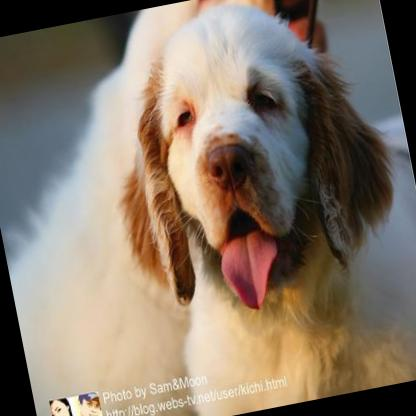clumber: (79, 0, 416, 416)
